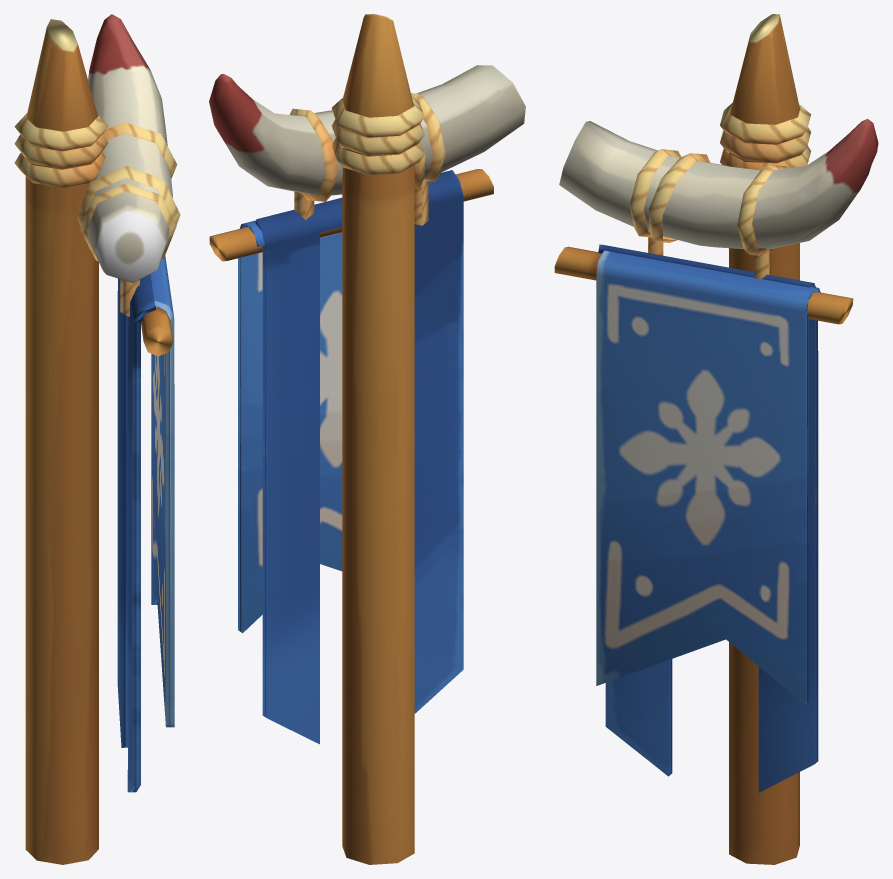
The picture shows the model from 3 angles, left to right: view 1: azimuth 30°, elevation 25°; view 2: azimuth 150°, elevation 25°; view 3: azimuth 270°, elevation 25°; orthographic projection. The views are drawn at different scales.
Visible parts, largest first — view 1: SM_s21c; view 2: SM_s21c; view 3: SM_s21c.
Boxes of the visible parts, x1,y1,x2,y2 form: SM_s21c: (14,14,180,864); SM_s21c: (209,14,525,864); SM_s21c: (554,14,878,864).
Bounding box in the file's own units: 89.7 × 384 × 135.
